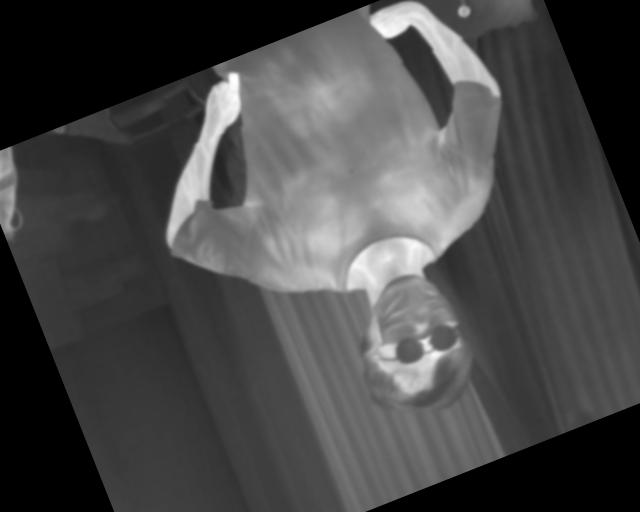face: (262, 262, 378, 395), (361, 253, 467, 378)
